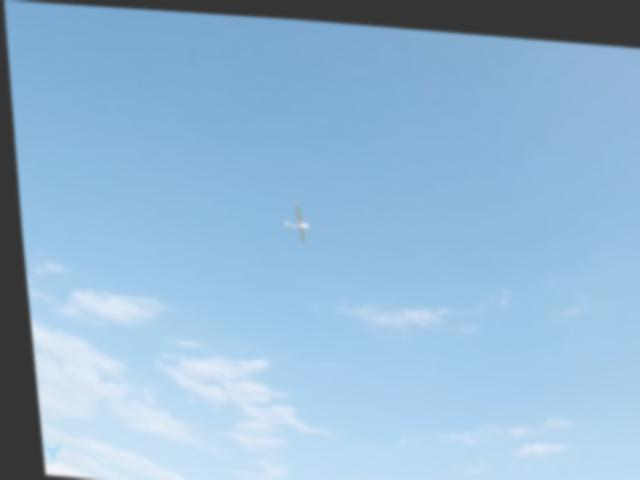uav: (270, 188, 318, 250)
